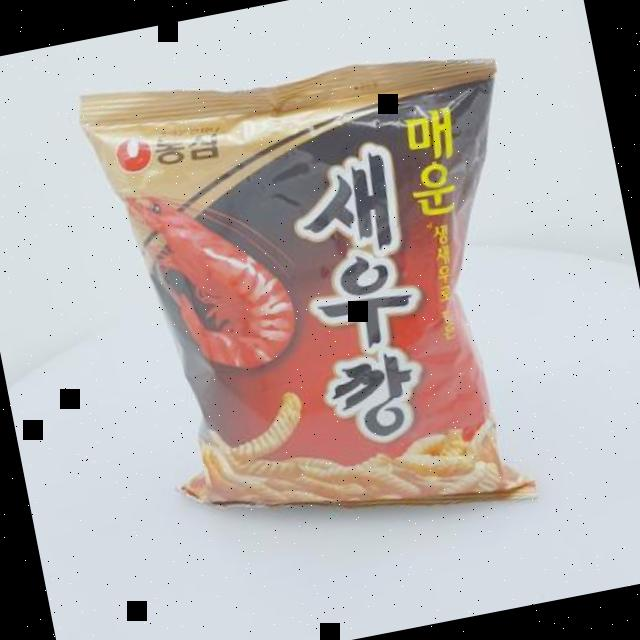snack_bag: (61, 0, 585, 581)
